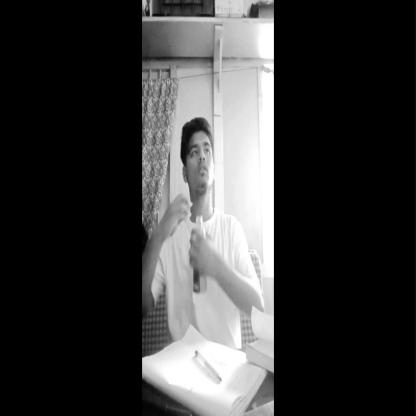Distracted: (174, 112, 215, 195)
